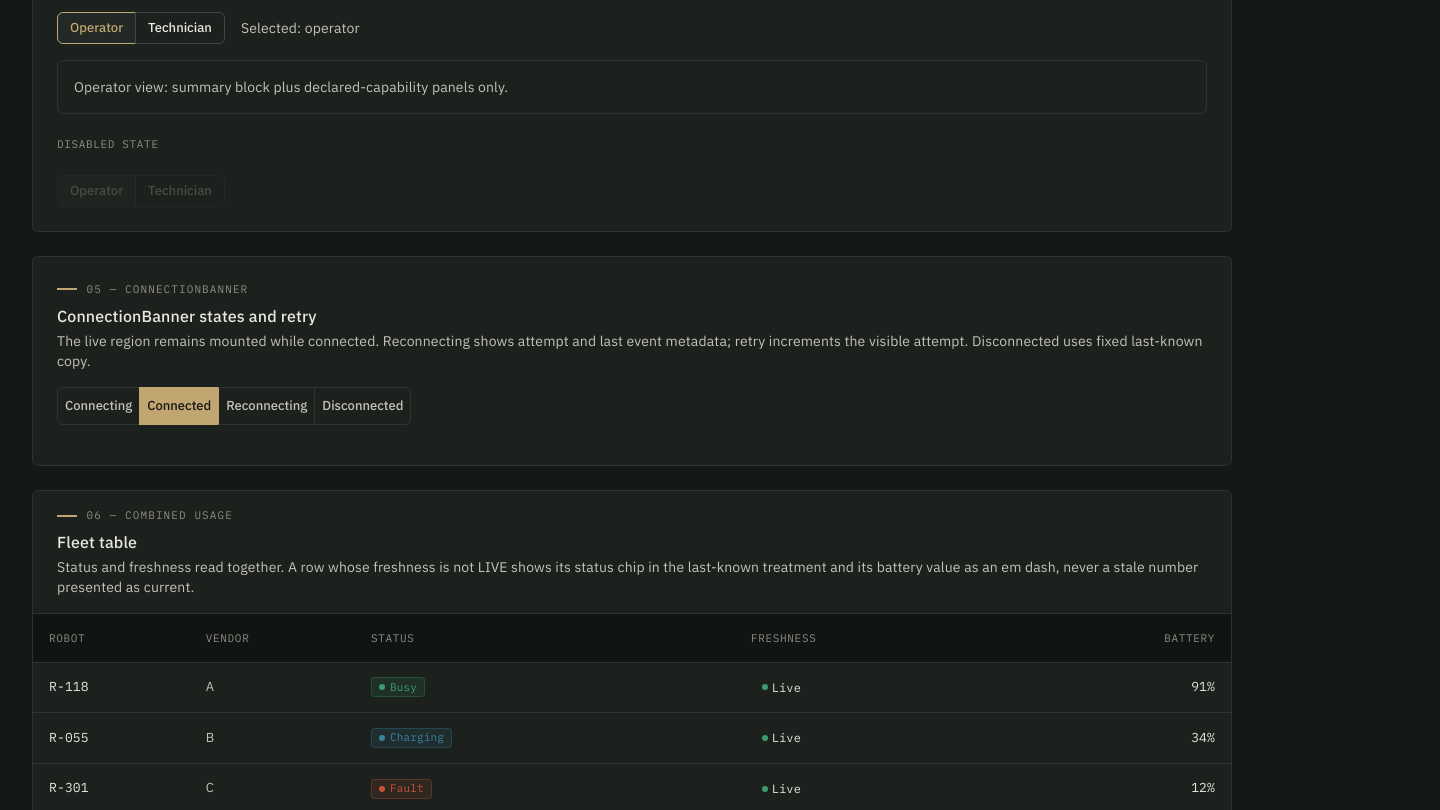
Test case: ComponentGallery › exercises every ConnectionBanner state and retry behavior
(page scrolled)
Click the button "Reconnecting".
click(267, 406)  # box [218,386,315,425]
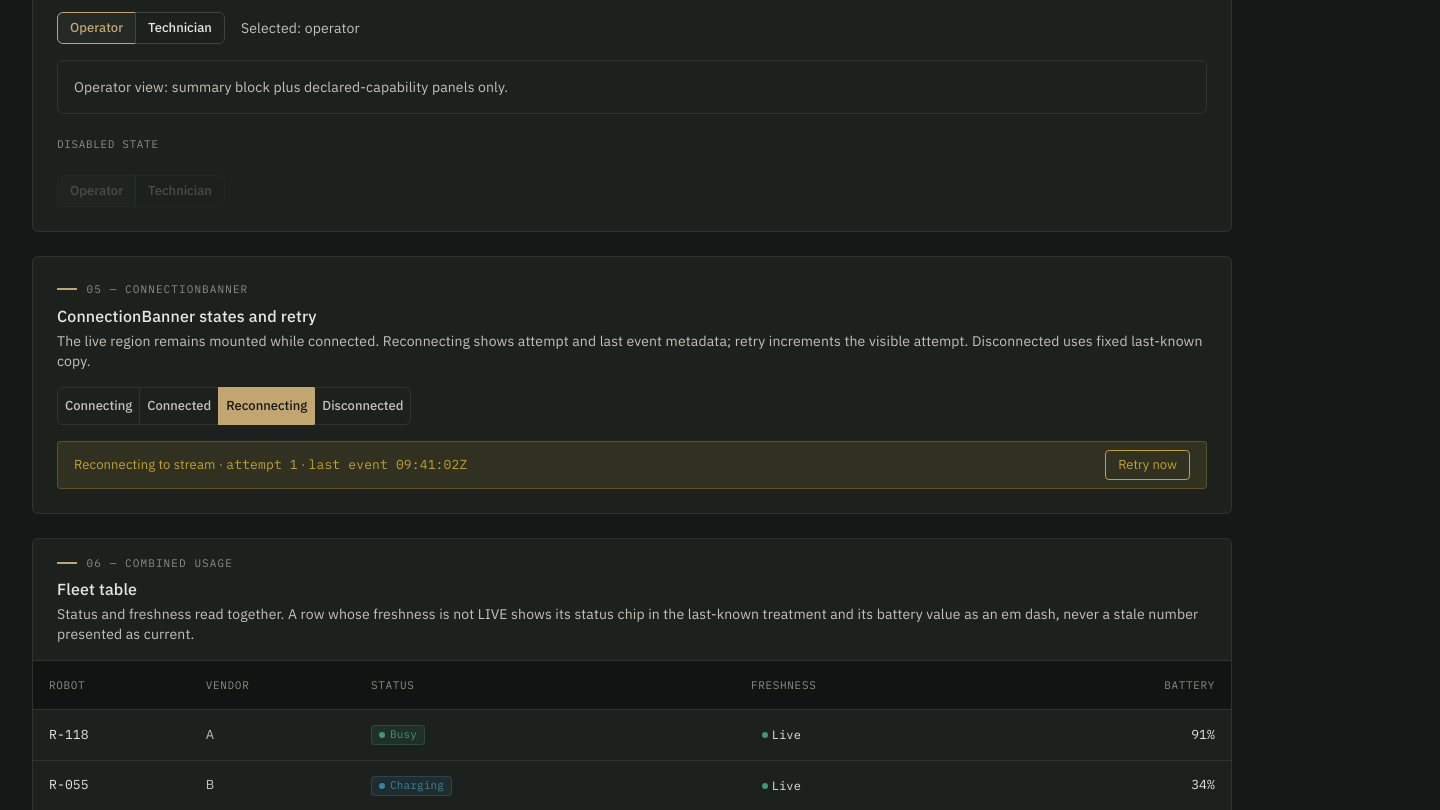
Expected: the message shows "attempt 1", [57,441,1207,489]
Click the button "Retry now".
click(1148, 465)  # box [1105,450,1190,480]
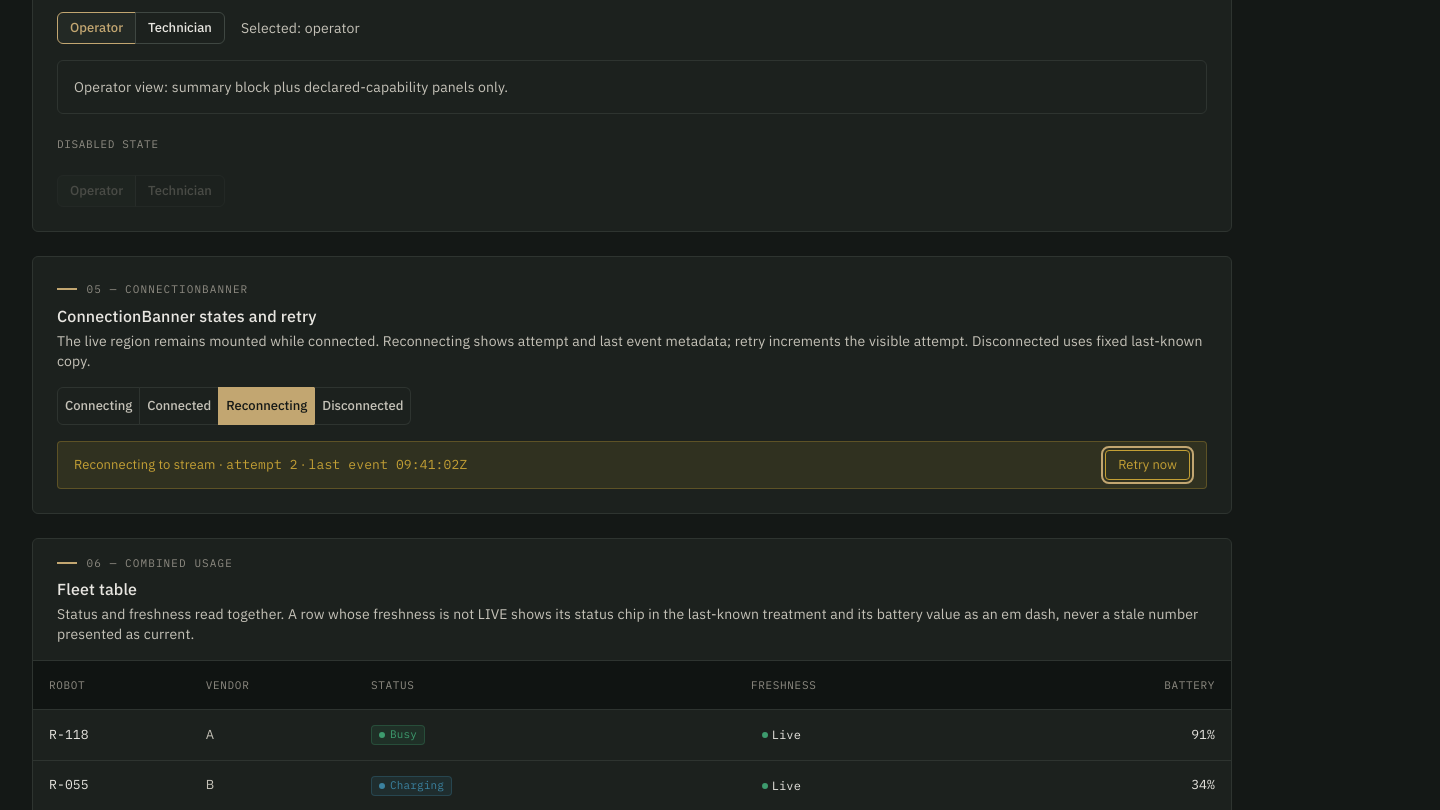
Expected: the message shows "attempt 2", [57,441,1207,489]
Click the button "Disconnected".
click(363, 406)  # box [314,386,411,425]
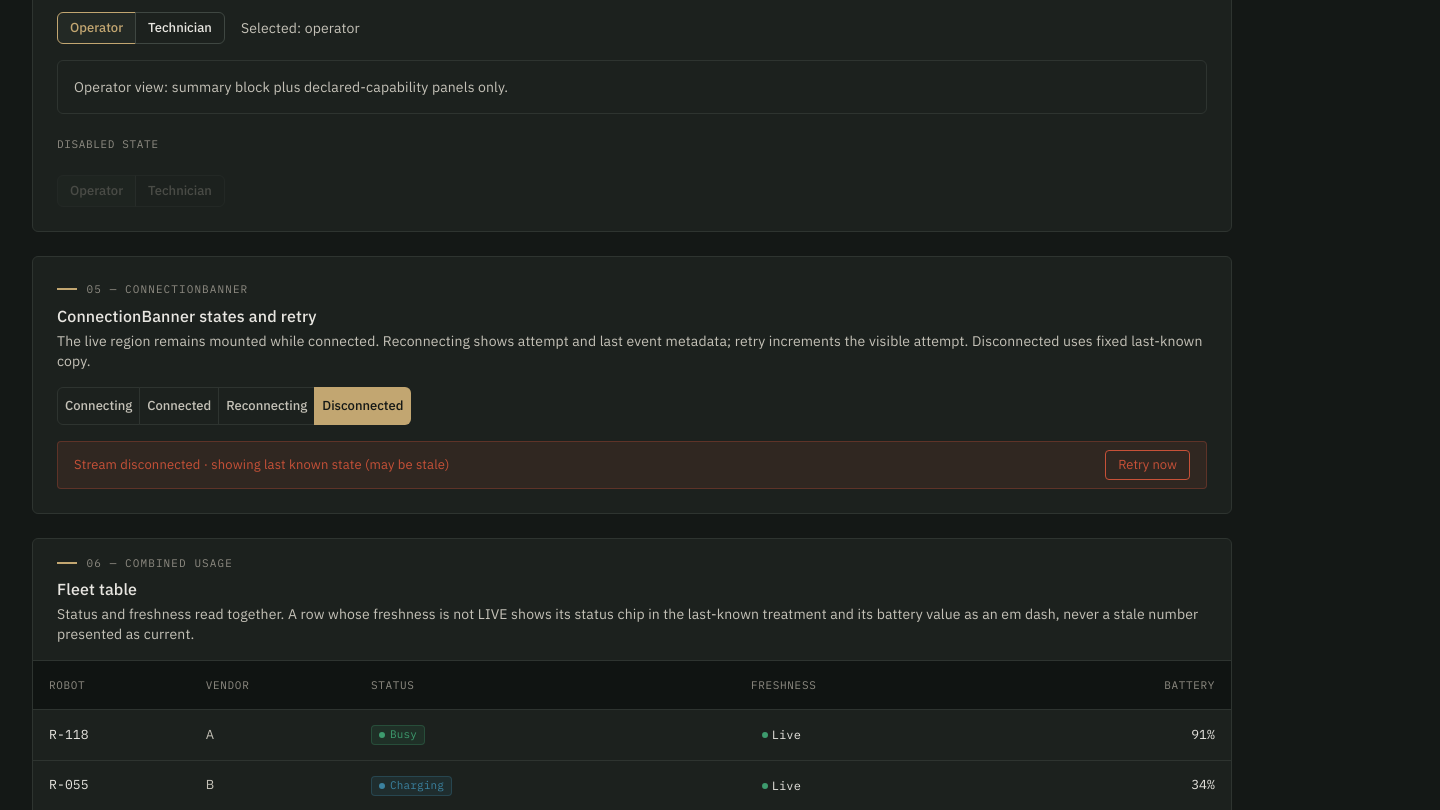
Expected: the message shows "showing last known state", [74,456,450,473]
